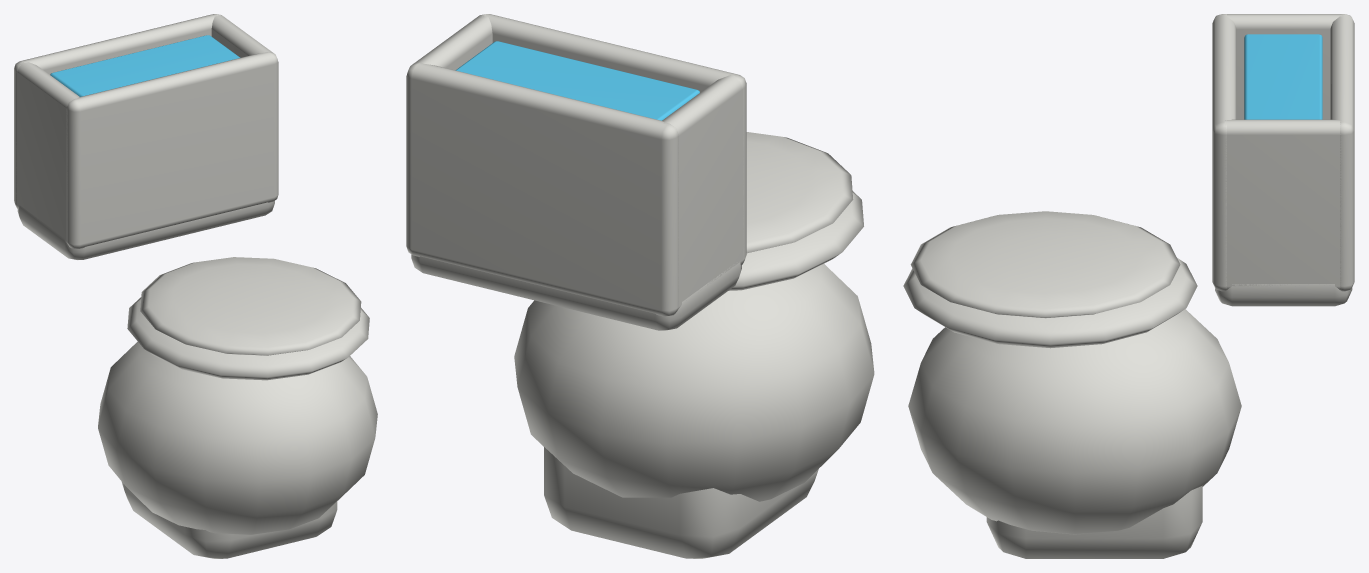
Rendered from Toilet.fbx.
The picture shows the model from 3 angles, left to right: view 1: azimuth 30°, elevation 25°; view 2: azimuth 150°, elevation 25°; view 3: azimuth 270°, elevation 25°; orthographic projection. The views are drawn at different scales.
Parts seen in each view (by area): view 1: Toilet_BowlBase, Tank_FrontWall, Toilet_ClosedLid, Tank_LeftWall, Toilet_ClosedSeat, Tank_Water, Toilet_Foot, Tank_BackWall, Tank_Base, Tank_RightWall; view 2: Toilet_BowlBase, Tank_BackWall, Toilet_Foot, Tank_LeftWall, Toilet_ClosedLid, Tank_Water, Tank_FrontWall, Tank_Base, Toilet_ClosedSeat, Tank_RightWall; view 3: Toilet_BowlBase, Toilet_ClosedLid, Tank_RightWall, Toilet_ClosedSeat, Toilet_Foot, Tank_Water, Tank_BackWall, Tank_FrontWall, Tank_LeftWall, Tank_Base.
Boxes of the visible parts, <box> form: Toilet_BowlBase: <box>98,341,377,535</box>; Tank_FrontWall: <box>66,52,278,248</box>; Toilet_ClosedLid: <box>140,257,361,355</box>; Tank_LeftWall: <box>16,62,79,244</box>; Toilet_ClosedSeat: <box>127,297,369,380</box>; Tank_Water: <box>50,35,240,96</box>; Toilet_Foot: <box>122,482,337,558</box>; Tank_BackWall: <box>14,14,223,209</box>; Tank_Base: <box>17,201,274,260</box>; Tank_RightWall: <box>211,15,272,57</box>; Toilet_BowlBase: <box>514,264,874,501</box>; Tank_BackWall: <box>406,62,678,316</box>; Toilet_Foot: <box>544,447,818,558</box>; Tank_LeftWall: <box>662,75,744,310</box>; Toilet_ClosedLid: <box>746,132,853,253</box>; Tank_Water: <box>455,41,699,120</box>; Tank_FrontWall: <box>478,14,746,265</box>; Tank_Base: <box>411,254,741,330</box>; Toilet_ClosedSeat: <box>728,191,863,290</box>; Tank_RightWall: <box>413,15,492,70</box>; Toilet_BowlBase: <box>908,309,1241,534</box>; Toilet_ClosedLid: <box>910,211,1180,318</box>; Tank_RightWall: <box>1224,119,1342,289</box>; Toilet_ClosedSeat: <box>903,258,1197,348</box>; Toilet_Foot: <box>986,485,1202,558</box>; Tank_Water: <box>1244,34,1322,119</box>; Tank_BackWall: <box>1330,14,1354,291</box>; Tank_FrontWall: <box>1212,14,1236,291</box>; Tank_LeftWall: <box>1227,14,1341,119</box>; Tank_Base: <box>1215,284,1352,306</box>.
Bounding box in the file's own units: 0.65 × 1.04 × 0.92.
